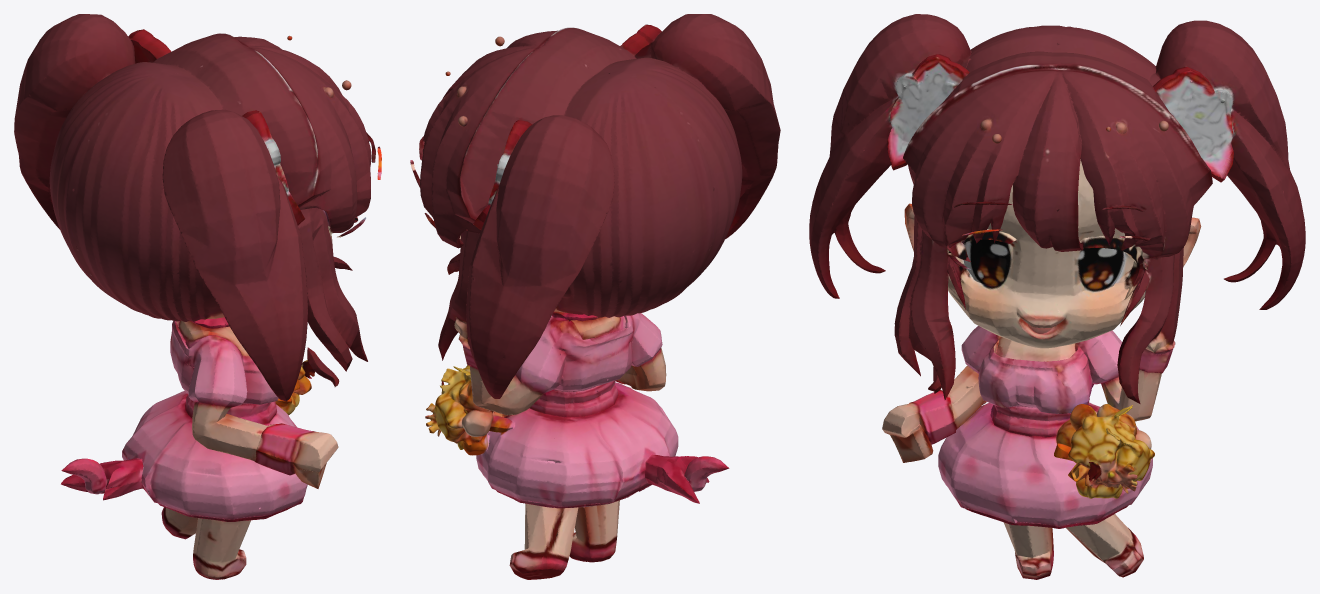
Rendered from 3bdd63fe-ab7b-4a2a-b4c4-e682975c4793 (1).fbx.
3 views of the same model, side by side, from view 1: azimuth 30°, elevation 25°; view 2: azimuth 150°, elevation 25°; view 3: azimuth 270°, elevation 25° (orthographic). The views are drawn at different scales.
Visible parts, largest first — view 1: tripo_node_08aaa6bb; view 2: tripo_node_08aaa6bb; view 3: tripo_node_08aaa6bb.
Part boxes in pixels (x1=…): tripo_node_08aaa6bb: x1=14, y1=14, x2=381, y2=579; tripo_node_08aaa6bb: x1=410, y1=14, x2=780, y2=579; tripo_node_08aaa6bb: x1=809, y1=14, x2=1305, y2=579.
Size of the model in its own units: 59.7 by 100 by 85.47.
1 material, 1 textured.
